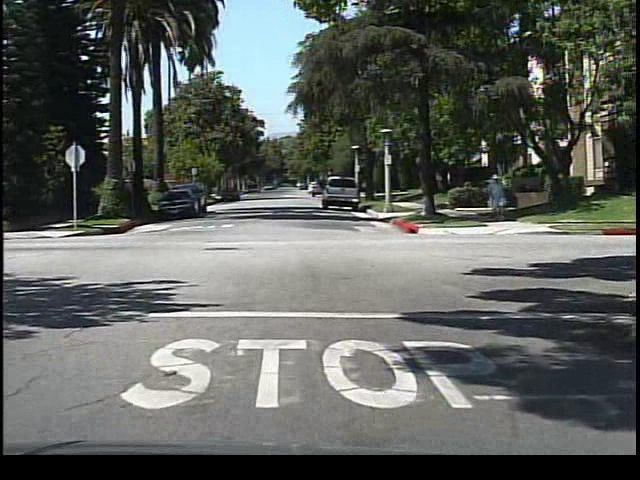person: (486, 170, 510, 223)
